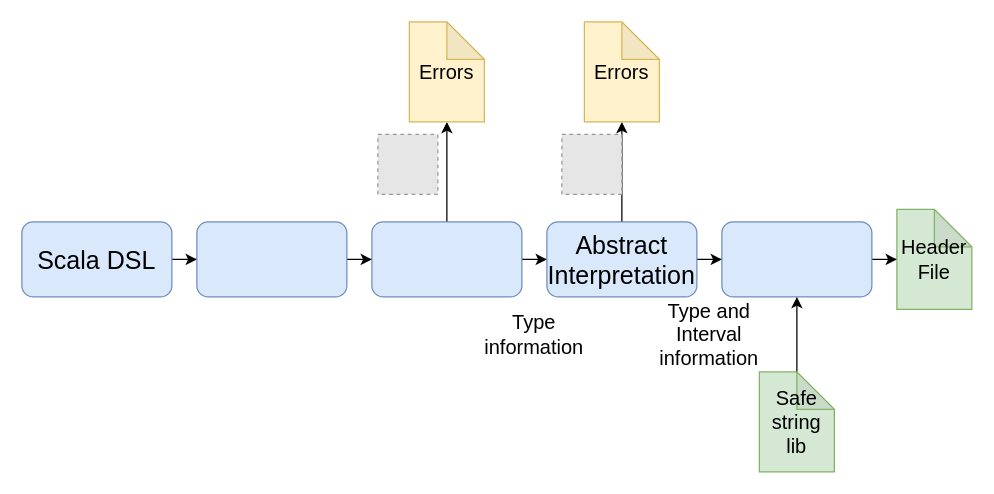
Image size: 994x494. Some labels were removed from this diagram. Grey dashed boxes stand in for pictures. The centre of each missing label's shape, as x and y in pixels:
"AST" belongs at point (271, 259).
"Code Generation" belongs at point (796, 259).
"Type Checking" belongs at point (446, 259).
